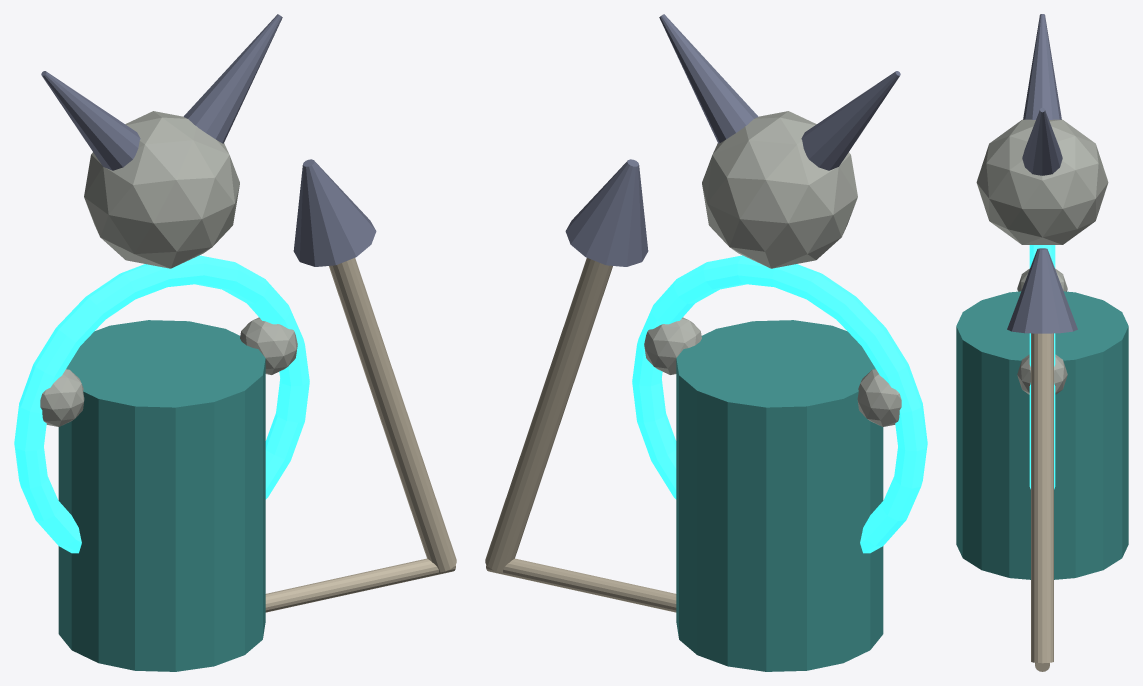
The model's file is tide-warden.glb.
3 views of the same model, side by side, from view 1: azimuth 30°, elevation 25°; view 2: azimuth 150°, elevation 25°; view 3: azimuth 270°, elevation 25° (orthographic). The views are drawn at different scales.
Parts seen in each view (by area): view 1: tide-torso, tide-tide-ring, tide-head, tide-trident-shaft, tide-trident-head, tide-anchor-horn-1, tide-anchor-horn-0, tide-trident-grip, tide-barnacle-shoulder-1, tide-barnacle-shoulder-0; view 2: tide-torso, tide-tide-ring, tide-head, tide-trident-shaft, tide-trident-head, tide-anchor-horn-1, tide-anchor-horn-0, tide-trident-grip, tide-barnacle-shoulder-1, tide-barnacle-shoulder-0; view 3: tide-torso, tide-head, tide-trident-shaft, tide-trident-head, tide-anchor-horn-0, tide-anchor-horn-1, tide-tide-ring, tide-barnacle-shoulder-1.
Part boxes in pixels (<box>): tide-torso: <box>58,320,265,671</box>; tide-tide-ring: <box>14,255,309,553</box>; tide-head: <box>84,111,239,268</box>; tide-trident-shaft: <box>329,258,456,572</box>; tide-trident-head: <box>293,159,376,266</box>; tide-anchor-horn-1: <box>183,14,282,143</box>; tide-anchor-horn-0: <box>41,71,140,170</box>; tide-trident-grip: <box>265,558,455,612</box>; tide-barnacle-shoulder-1: <box>240,317,297,374</box>; tide-barnacle-shoulder-0: <box>40,369,84,426</box>; tide-torso: <box>676,320,883,671</box>; tide-tide-ring: <box>632,255,927,553</box>; tide-head: <box>702,111,857,268</box>; tide-trident-shaft: <box>485,258,612,572</box>; tide-trident-head: <box>565,159,648,266</box>; tide-anchor-horn-1: <box>659,14,758,143</box>; tide-anchor-horn-0: <box>801,71,900,170</box>; tide-trident-grip: <box>486,558,676,612</box>; tide-barnacle-shoulder-1: <box>644,317,701,374</box>; tide-barnacle-shoulder-0: <box>857,369,901,426</box>; tide-torso: <box>956,291,1128,579</box>; tide-head: <box>976,119,1108,244</box>; tide-trident-shaft: <box>1031,333,1053,663</box>; tide-trident-head: <box>1007,248,1077,333</box>; tide-anchor-horn-0: <box>1023,14,1061,119</box>; tide-anchor-horn-1: <box>1022,107,1062,175</box>; tide-tide-ring: <box>1029,245,1055,489</box>; tide-barnacle-shoulder-1: <box>1017,354,1067,394</box>.
Bounding box in the file's own units: 1.65 × 2.15 × 0.68.
